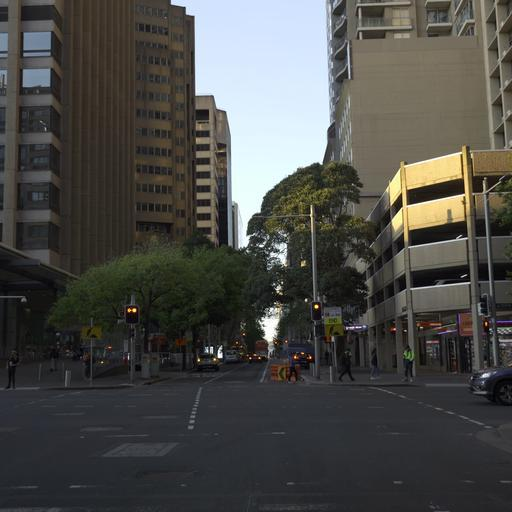Street light: (252, 203, 322, 379), (480, 170, 511, 366), (0, 293, 27, 388), (0, 294, 27, 303)
